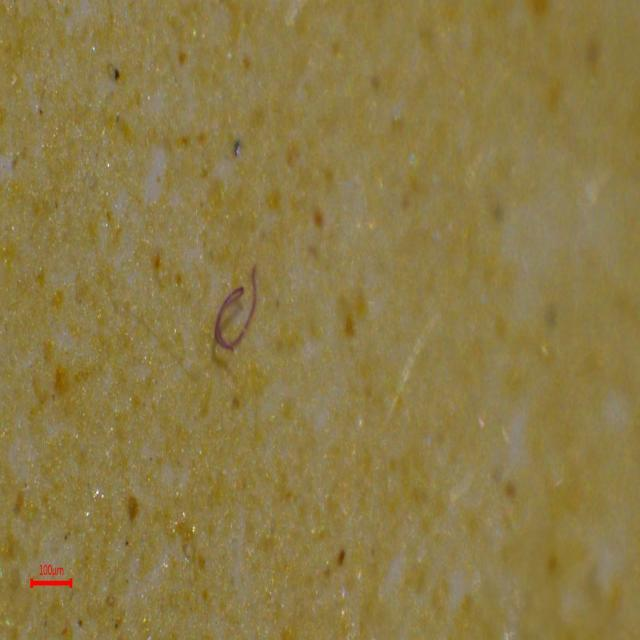fibers: (205, 260, 274, 353)
